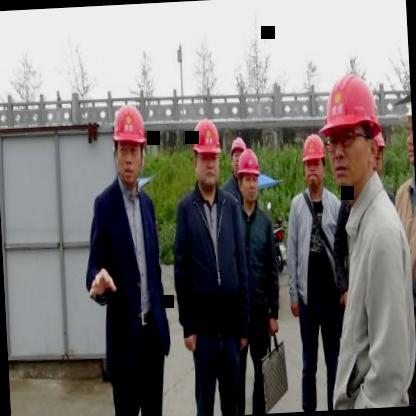helmet: (321, 68, 383, 194), (108, 98, 150, 186), (189, 111, 224, 193), (300, 130, 328, 194), (234, 144, 263, 205), (396, 83, 414, 171), (228, 132, 247, 178)
